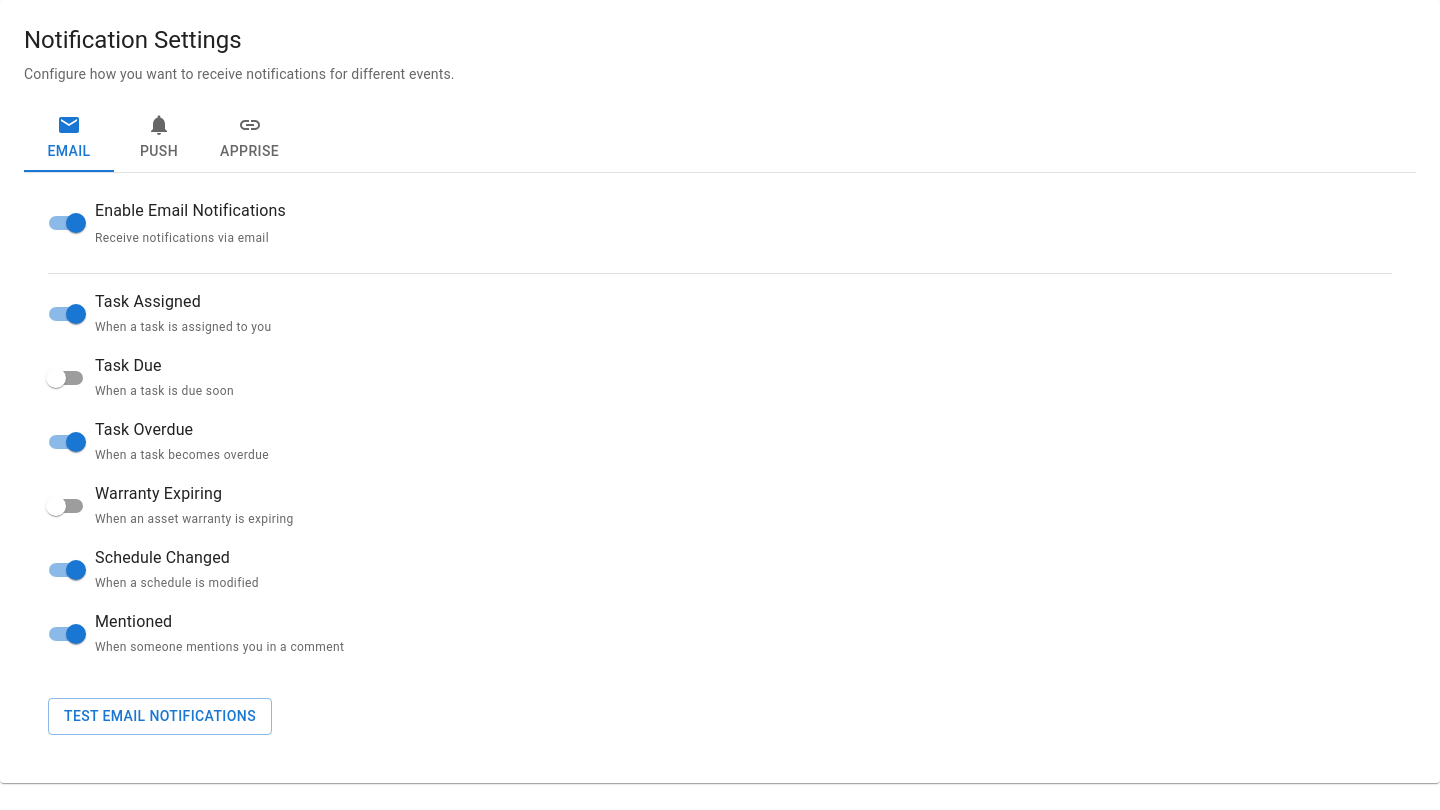
Scenario: NotificationSettings › switches between tabs
The image size is (1440, 810).
What coordinates should you click on to do the following:
click the tab "Push"
I would click on:
 (159, 136)
Its box is [114,100,204,172].
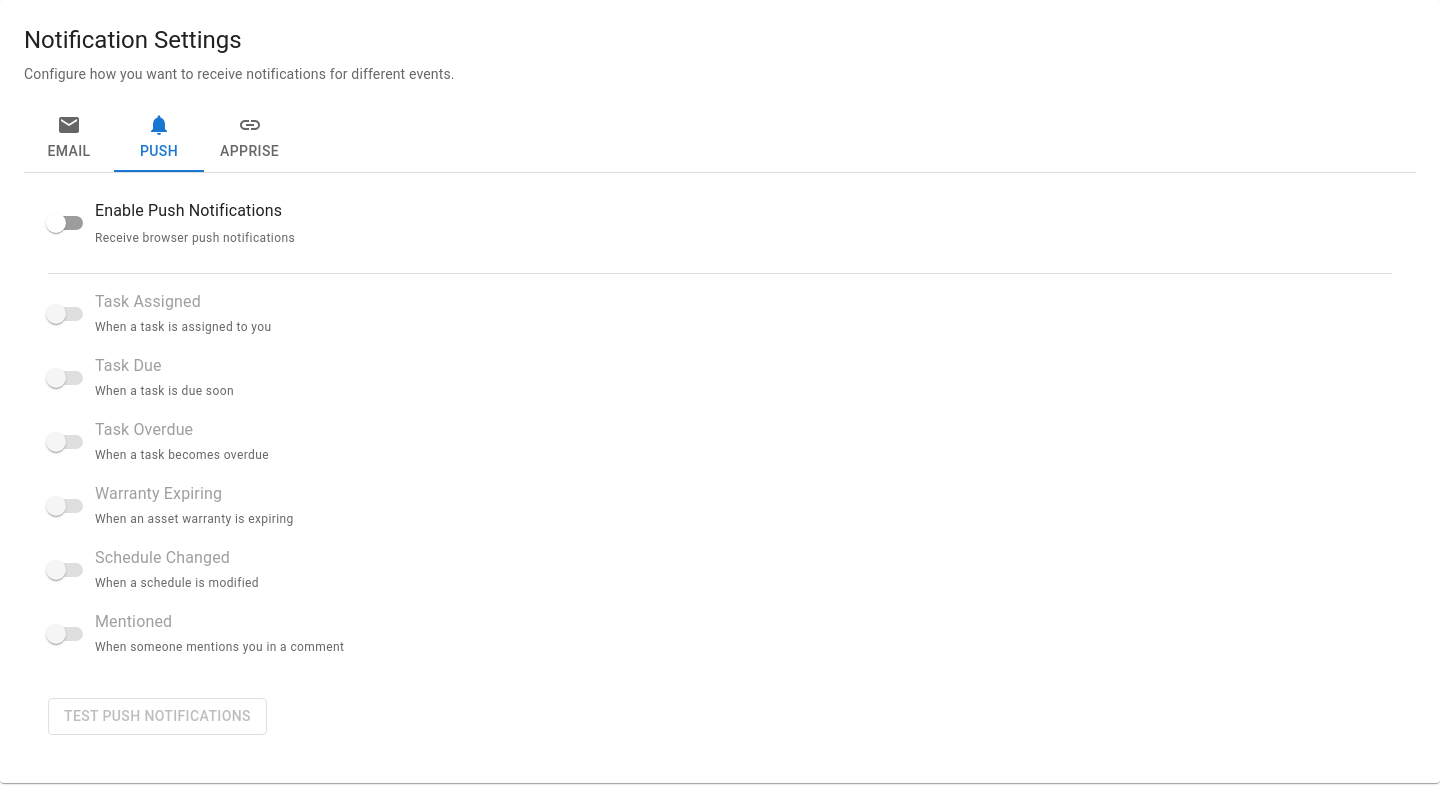
Now the heading "Enable Push Notifications" is shown, box [95,197,295,225]
What coordinates should you click on to do the following:
click the tab "Apprise"
I would click on:
 (250, 136)
Its box is [204,100,295,172].
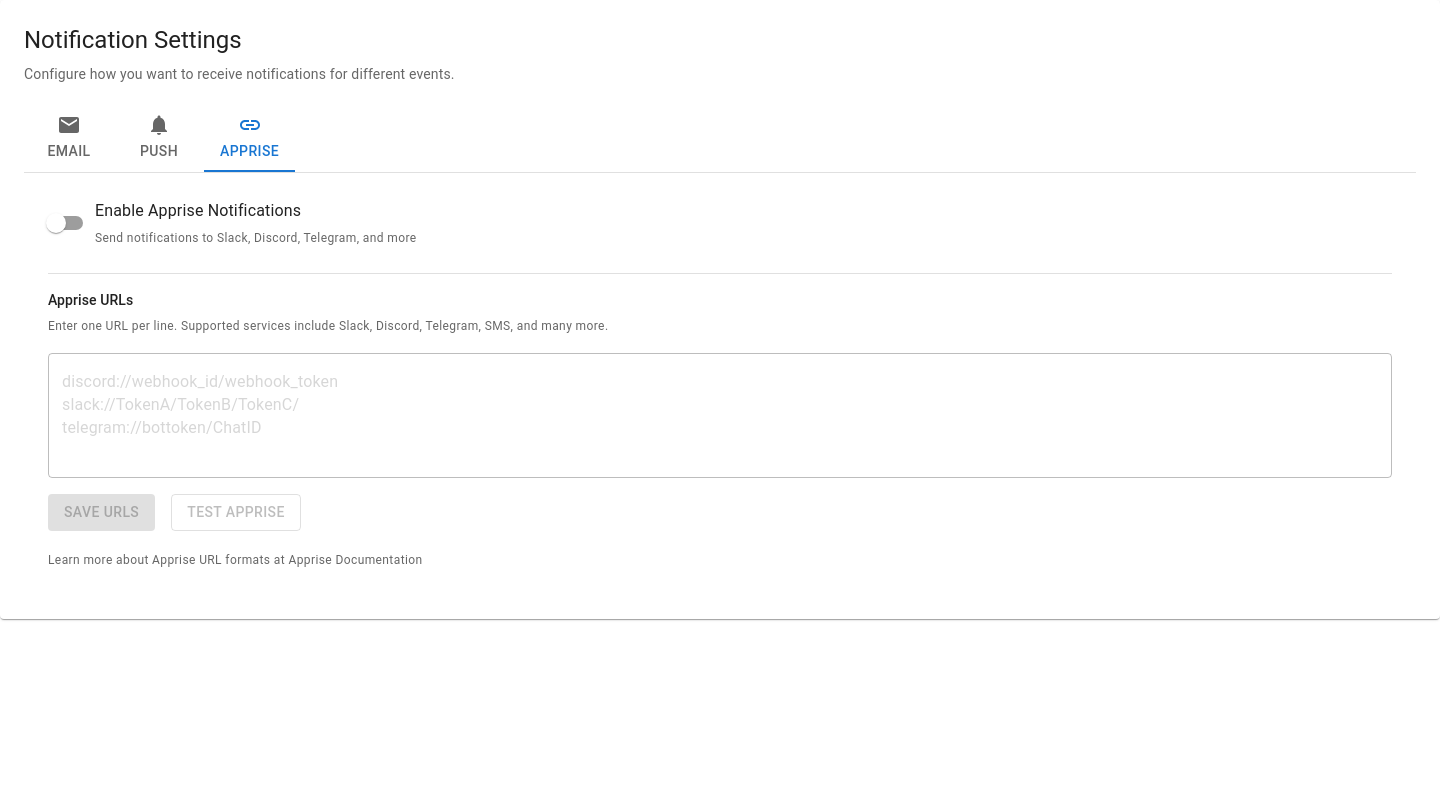
Now the heading "Enable Apprise Notifications" is shown, box [95,201,301,220]
